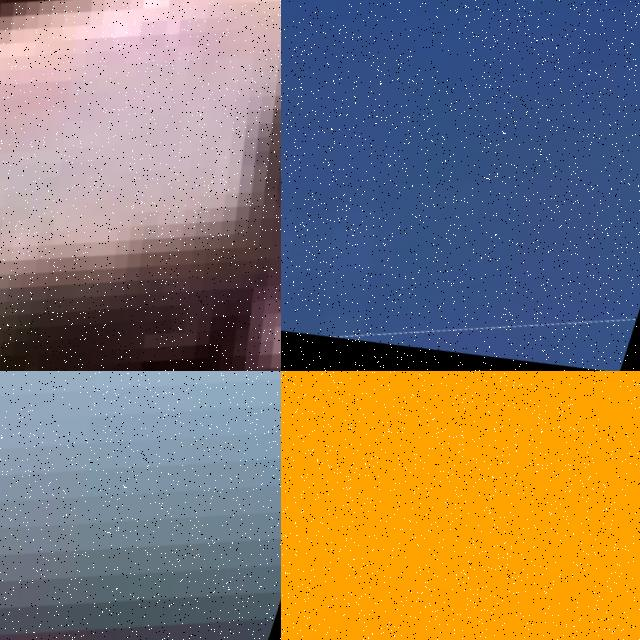drone: (281, 0, 640, 371), (0, 0, 281, 371), (0, 371, 281, 640)
